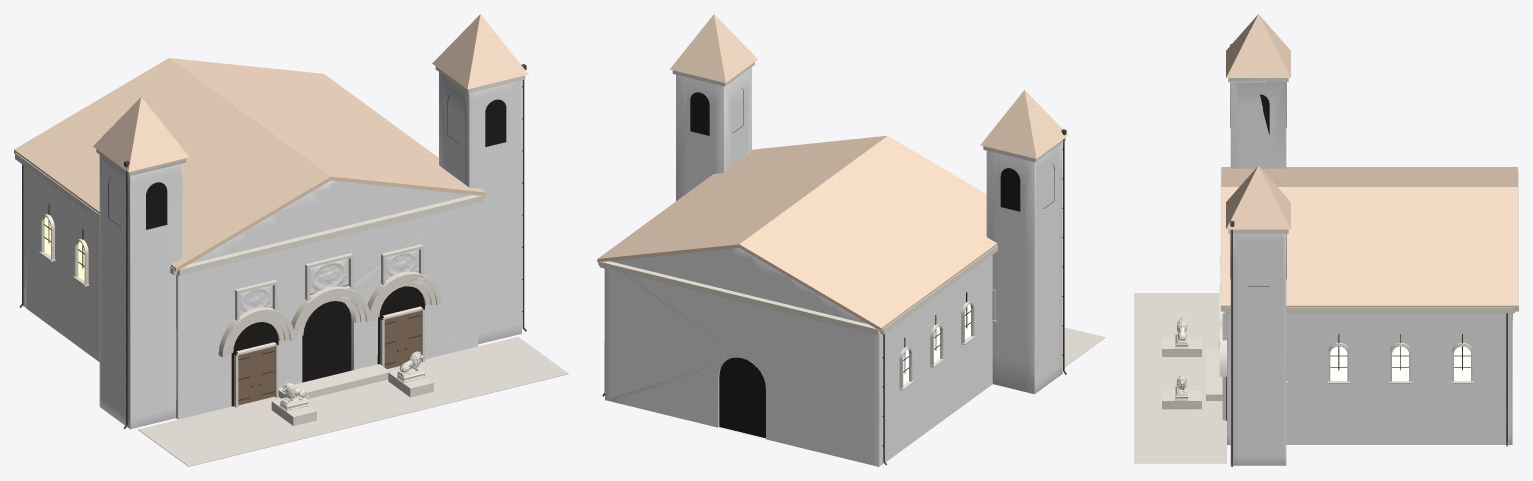
The model's file is three-arches.glb.
3 views of the same model, side by side, from view 1: azimuth 30°, elevation 25°; view 2: azimuth 150°, elevation 25°; view 3: azimuth 270°, elevation 25° (orthographic). The views are drawn at different scales.
Parts seen in each view (by area): view 1: baptist_wall, baptist_roof, baptist_floor, baptist_trim, baptist_shadow, baptist_bronze, merged_baptist_trim, detail_baptist_pipe, merged_baptist_relief_baptist-tympanum.002, merged_baptist_relief_baptist-tympanum, merged_baptist_relief_baptist-tympanum.001; view 2: baptist_wall, baptist_roof, baptist_shadow, baptist_trim, merged_baptist_trim, baptist_floor, detail_baptist_pipe, baptist_glass; view 3: baptist_wall, baptist_roof, baptist_floor, baptist_trim, baptist_glass, merged_baptist_trim, detail_baptist_pipe, baptist_shadow.
Boxes of the visible parts, x1,y1,x2,y2 form: baptist_wall: [23, 72, 521, 429]; baptist_roof: [14, 14, 528, 271]; baptist_floor: [138, 337, 568, 466]; baptist_trim: [15, 66, 525, 425]; baptist_shadow: [108, 94, 506, 406]; baptist_bronze: [238, 311, 420, 405]; merged_baptist_trim: [39, 214, 425, 411]; detail_baptist_pipe: [19, 64, 526, 428]; merged_baptist_relief_baptist-tympanum.002: [310, 258, 348, 294]; merged_baptist_relief_baptist-tympanum: [239, 285, 272, 315]; merged_baptist_relief_baptist-tympanum.001: [386, 250, 418, 279]; baptist_wall: [604, 67, 1062, 466]; baptist_roof: [597, 14, 1068, 331]; baptist_shadow: [690, 88, 1054, 438]; baptist_trim: [598, 62, 1065, 334]; merged_baptist_trim: [899, 289, 996, 390]; baptist_floor: [1062, 327, 1105, 368]; detail_baptist_pipe: [602, 129, 1066, 465]; baptist_glass: [903, 304, 970, 384]; baptist_wall: [1227, 82, 1512, 465]; baptist_roof: [1221, 14, 1517, 308]; baptist_floor: [1134, 293, 1226, 463]; baptist_trim: [1162, 78, 1518, 409]; baptist_glass: [1330, 346, 1470, 380]; merged_baptist_trim: [1175, 318, 1473, 420]; detail_baptist_pipe: [1230, 44, 1507, 466]; baptist_shadow: [1226, 82, 1286, 420].
Bounding box in the file's own units: 27.57 × 20.62 × 24.9.
